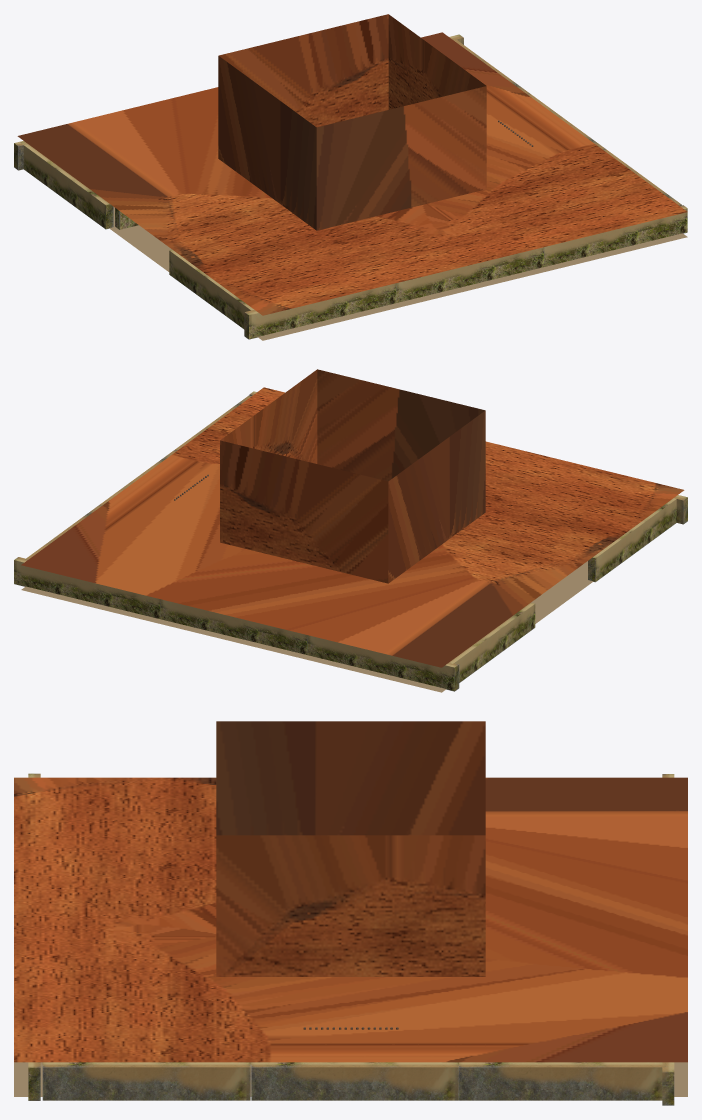
The model's file is temploInt.fbx.
The picture shows the model from 3 angles, top to bottom: view 1: azimuth 30°, elevation 25°; view 2: azimuth 150°, elevation 25°; view 3: azimuth 270°, elevation 25°; orthographic projection. The views are drawn at different scales.
Parts seen in each view (by area): view 1: TemploInt:Techo, TemploInt:Piso, Pared_cent_ext6, Pared_cent_ext1, Pared_cent_ext5, Pared_cent_ext10, Pared_cent_ext9; view 2: TemploInt:Techo, TemploInt:Piso, Pared_cent_ext7, Pared_cent_ext8, Pared_cent_ext3, Pared_cent_ext9, Pared_cent_ext10; view 3: TemploInt:Techo, Pared_cent_ext4, Pared_cent_ext2, Pared_cent_ext11, TemploInt:Piso.
Boxes of the visible parts, x1,y1,x2,y2 form: TemploInt:Techo: (17,14,687,315); TemploInt:Piso: (109,207,687,340); Pared_cent_ext6: (244,283,396,339); Pared_cent_ext1: (396,247,544,302); Pared_cent_ext5: (544,205,687,266); Pared_cent_ext10: (20,141,113,229); Pared_cent_ext9: (169,249,253,329); TemploInt:Techo: (21,369,684,667); TemploInt:Piso: (21,561,593,692); Pared_cent_ext7: (307,635,459,691); Pared_cent_ext8: (14,557,160,618); Pared_cent_ext3: (160,599,307,654); Pared_cent_ext9: (588,498,676,582); Pared_cent_ext10: (448,602,535,682); TemploInt:Techo: (14,721,687,1062); Pared_cent_ext4: (42,1062,250,1100); Pared_cent_ext2: (251,1062,458,1100); Pared_cent_ext11: (458,1062,666,1100); TemploInt:Piso: (14,1062,687,1096).
Size of the model in its own units: 5766 by 1613 by 5500.
